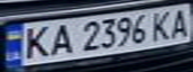2: (78, 17, 103, 52)
3: (97, 16, 118, 51)
6: (130, 11, 154, 45)
9: (115, 14, 136, 47)
A: (45, 20, 75, 56), (166, 6, 193, 39)
K: (18, 24, 54, 61), (148, 8, 175, 43)
